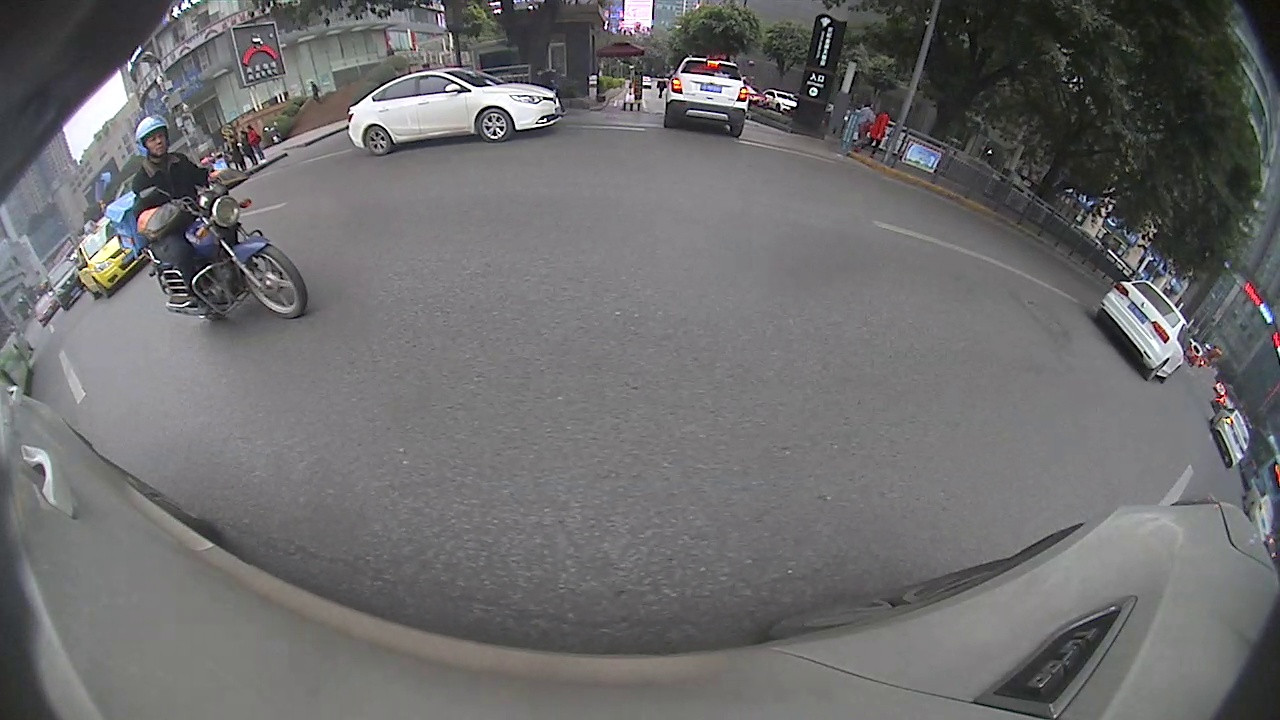car: (347, 66, 564, 156), (1099, 279, 1191, 382), (664, 55, 748, 137), (74, 223, 148, 300), (1210, 406, 1251, 470)
front: (238, 240, 307, 319), (477, 108, 514, 144)
rear: (363, 124, 393, 156)
rider: (129, 114, 310, 322)
